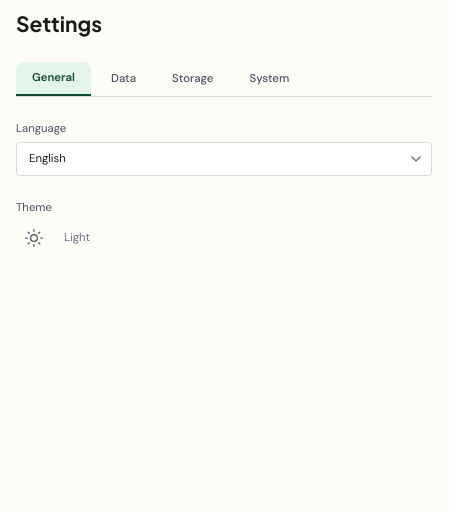
Test: SettingsPage › renders export logs button on System tab
What coordinates should you click on to do the following:
click the tab "System"
I would click on:
 (269, 79)
Its box is x1=234 y1=62 x2=305 y2=96.
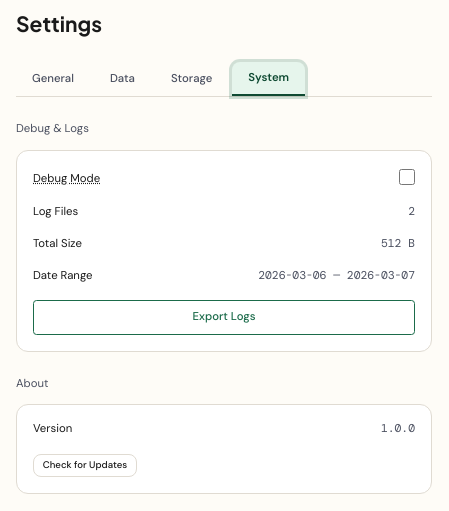
Now the button "Export Logs" is shown, box x1=33 y1=300 x2=415 y2=335
